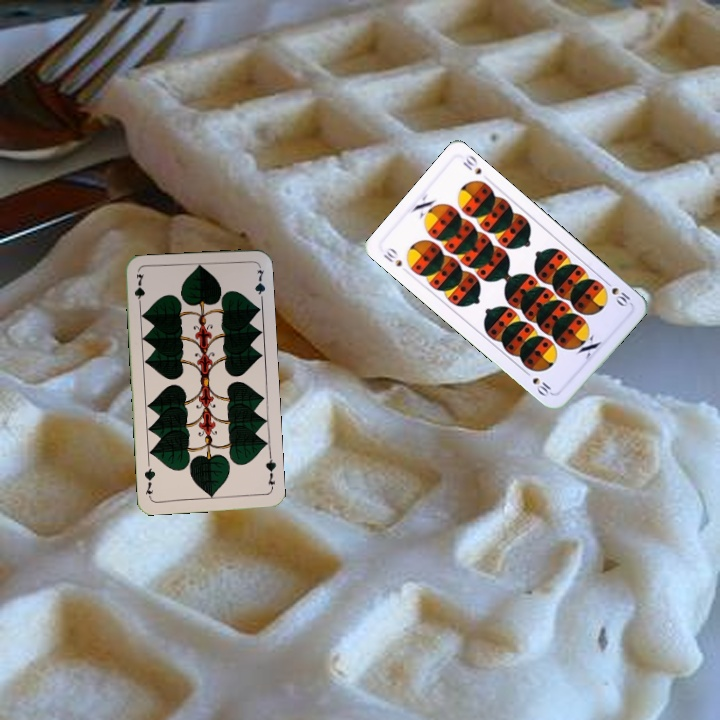G7: (130, 270, 147, 311), (262, 451, 278, 492)
S10: (600, 276, 634, 310), (379, 244, 405, 269)
